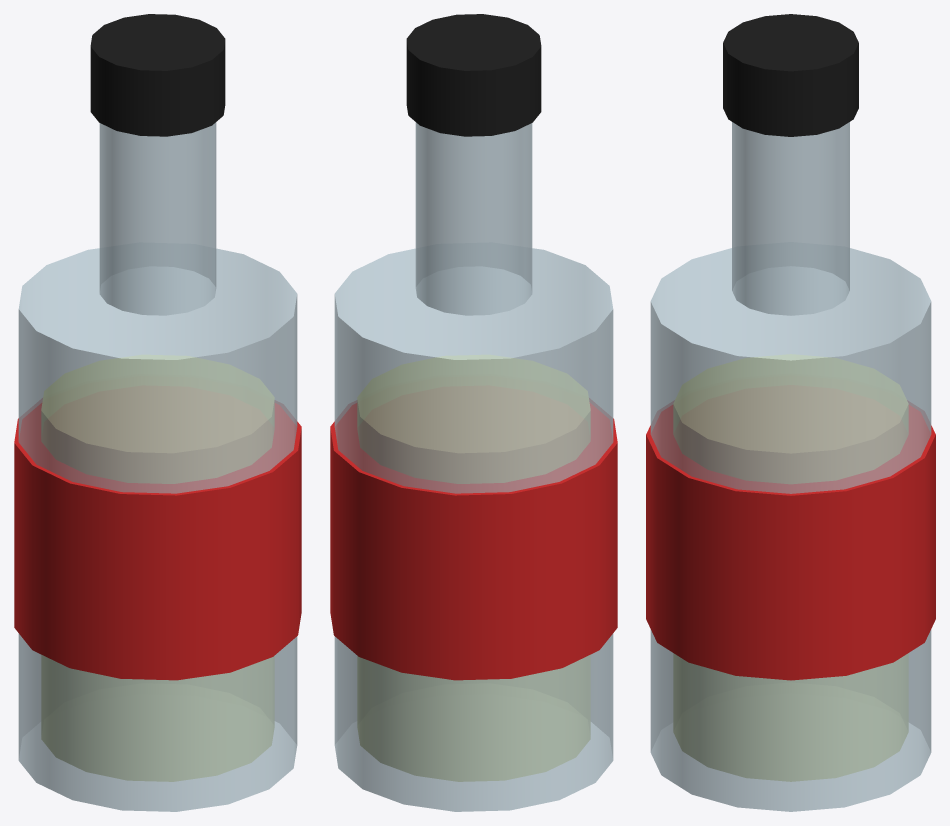
Rendered from AcidBottle.obj.
The picture shows the model from 3 angles, left to right: view 1: azimuth 30°, elevation 25°; view 2: azimuth 150°, elevation 25°; view 3: azimuth 270°, elevation 25°; orthographic projection.
Visible parts, largest first — view 1: Body, RedLabel, Liquid, Neck, Cap; view 2: Body, RedLabel, Liquid, Neck, Cap; view 3: Body, RedLabel, Liquid, Neck, Cap.
Part boxes in pixels (x1=…): Body: x1=18, y1=248, x2=297, y2=811; RedLabel: x1=14, y1=403, x2=301, y2=680; Liquid: x1=41, y1=355, x2=274, y2=781; Neck: x1=99, y1=122, x2=216, y2=315; Cap: x1=90, y1=14, x2=225, y2=136; Body: x1=334, y1=248, x2=613, y2=811; RedLabel: x1=330, y1=403, x2=617, y2=680; Liquid: x1=357, y1=355, x2=590, y2=781; Neck: x1=415, y1=122, x2=532, y2=315; Cap: x1=406, y1=14, x2=541, y2=136; Body: x1=650, y1=248, x2=931, y2=811; RedLabel: x1=646, y1=405, x2=935, y2=680; Liquid: x1=673, y1=354, x2=908, y2=781; Neck: x1=732, y1=122, x2=849, y2=315; Cap: x1=723, y1=14, x2=858, y2=136.
Bounding box in the file's own units: 0.64 × 1.73 × 0.64.
